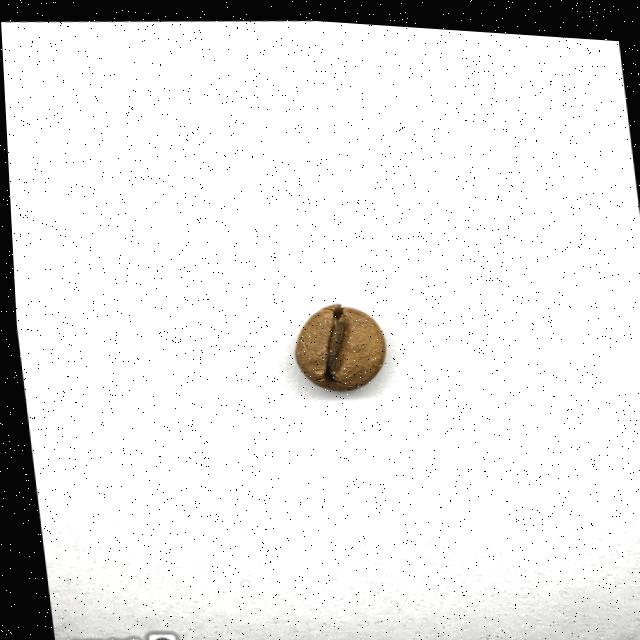Good bean: (285, 297, 388, 387)
